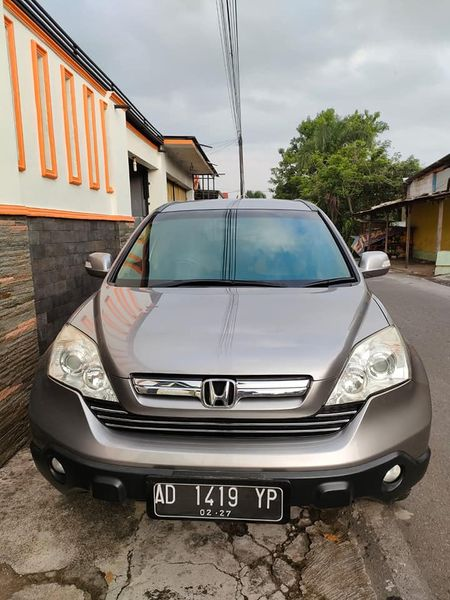plate: (149, 476, 287, 525)
